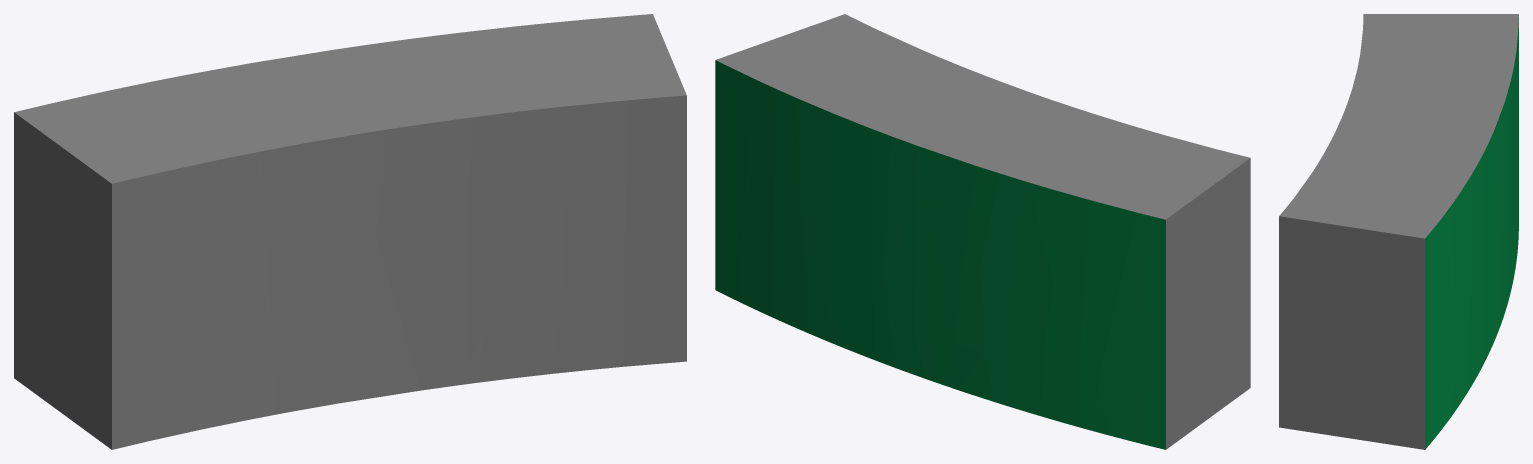
File: coloured_piece2.fbx
3 renders of one model, left to right at view 1: azimuth 30°, elevation 25°; view 2: azimuth 150°, elevation 25°; view 3: azimuth 270°, elevation 25°, orthographic. The views are drawn at different scales.
Visible parts, largest first — view 1: piece; view 2: piece; view 3: piece.
Part boxes in pixels (left/top/right/bottom): piece: left=14, top=14, right=686, bottom=449; piece: left=715, top=14, right=1250, bottom=449; piece: left=1279, top=14, right=1518, bottom=449.
Size of the model in its own units: 86.87 by 38.1 by 39.19.
